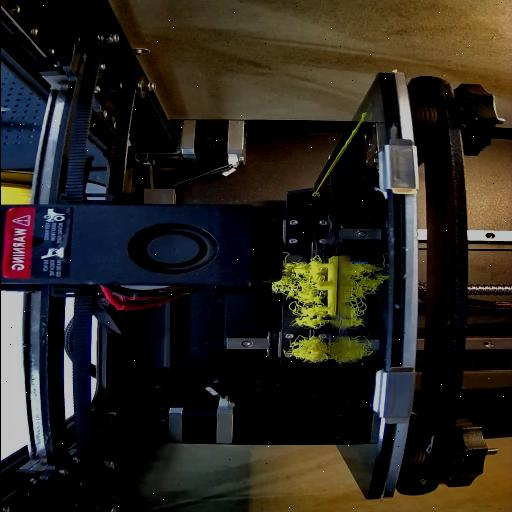spaghetti: (274, 254, 324, 328), (280, 336, 332, 366)
